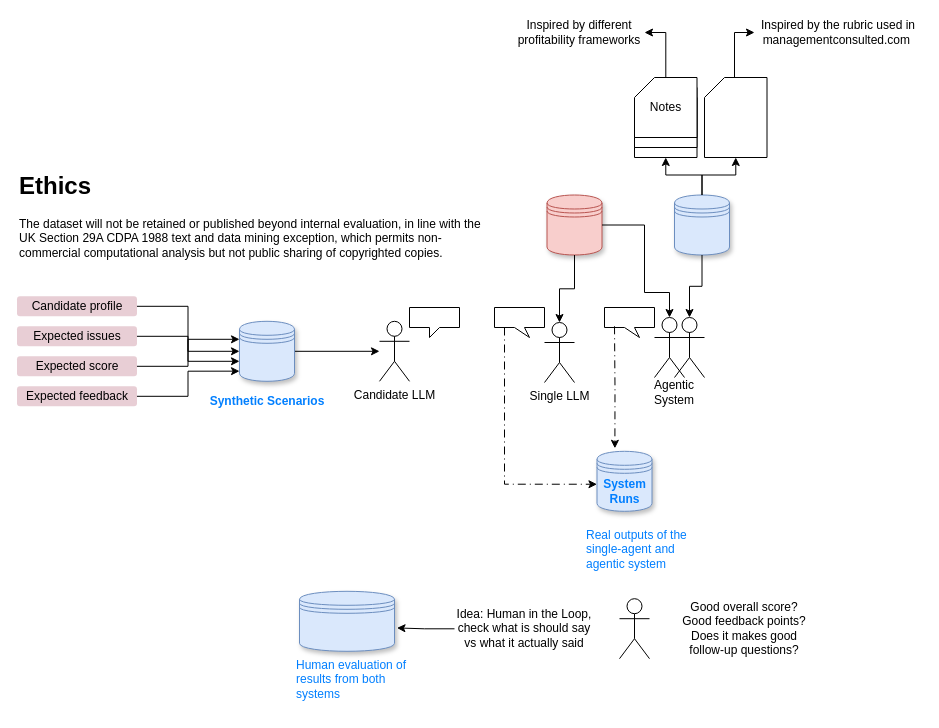
Some shapes in this 939 by 728 pixel diagram are drawn without their labels. Here are the shapes that lost their labels. From the top down, the centre of each, then its label:
the point at 735,117: Rubric
the point at 575,226: Cases
the point at 703,226: RAG
the point at 347,622: Comparison Results
the point at 634,628: Human
